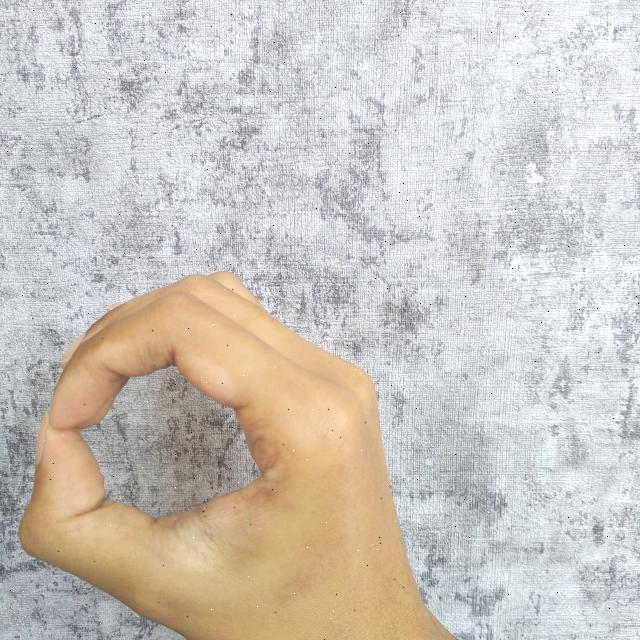O: (14, 265, 461, 640)
